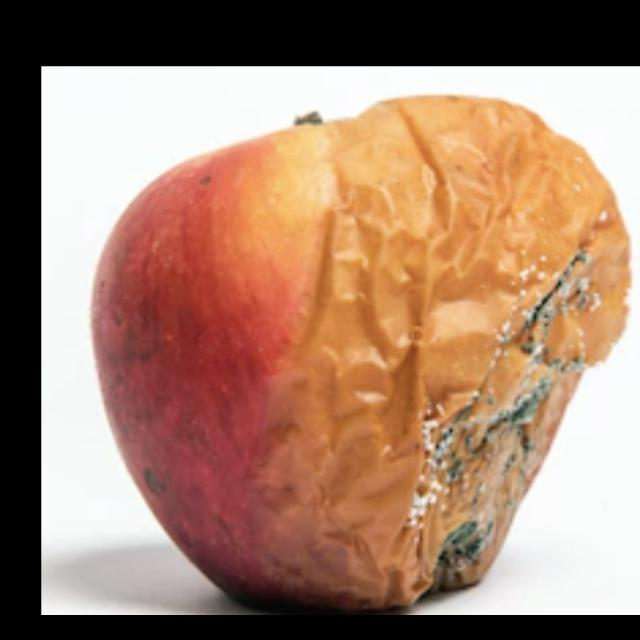Apel Tidak Segar: (82, 84, 640, 616)
